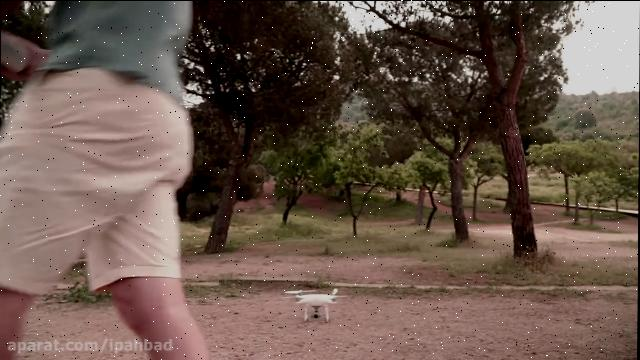drone: (283, 285, 347, 323)
